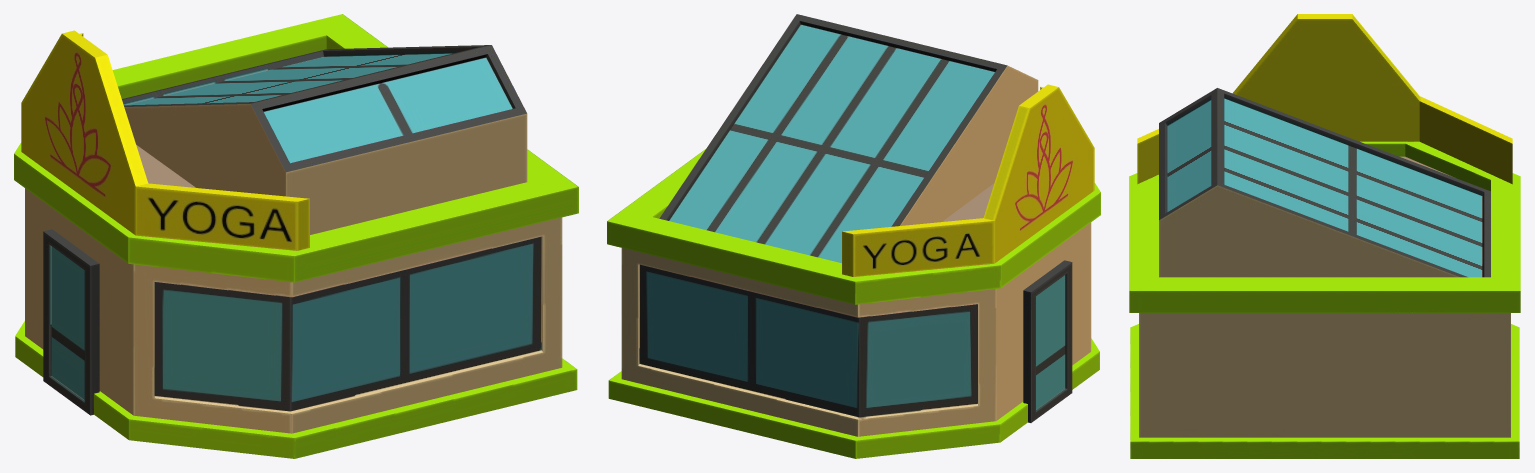
Rendered from Yoga.glb.
3 views of the same model, side by side, from view 1: azimuth 30°, elevation 25°; view 2: azimuth 150°, elevation 25°; view 3: azimuth 270°, elevation 25° (orthographic). The views are drawn at different scales.
Parts seen in each view (by area): view 1: Object003; view 2: Object003; view 3: Object003.
Part boxes in pixels (x1,y1,x2,y2): Object003: [14, 14, 578, 458]; Object003: [607, 14, 1100, 458]; Object003: [1129, 14, 1520, 458].
Bounding box in the file's own units: 2.96 × 2.54 × 3.09.
Materials: 1 (1 with a texture image).
